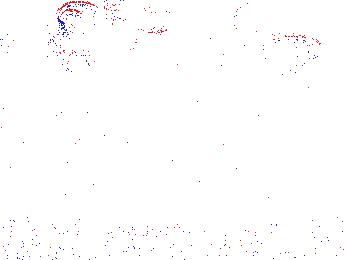moon jellyfish: (241, 36, 323, 91), (171, 6, 230, 81), (57, 1, 117, 69), (223, 1, 298, 46), (94, 1, 172, 34)
